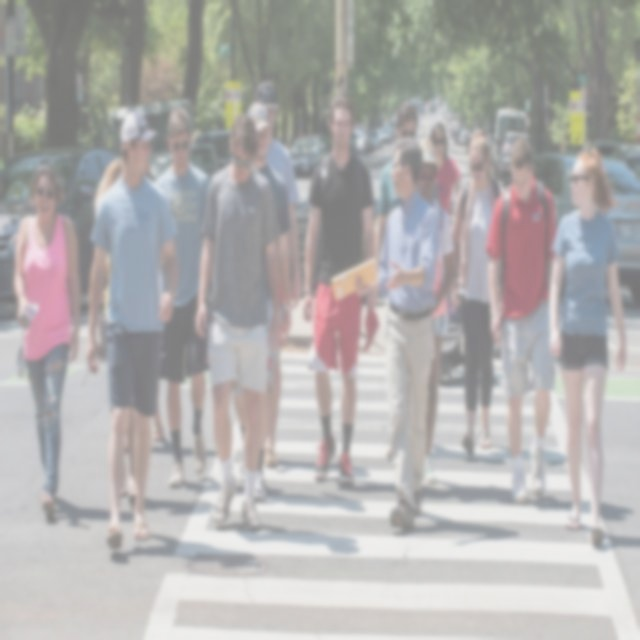pessoa: (84, 109, 180, 552), (195, 112, 284, 533), (354, 133, 442, 534), (547, 143, 628, 551), (302, 90, 382, 488), (485, 134, 565, 512), (231, 100, 293, 503), (13, 162, 81, 522), (446, 123, 514, 464), (152, 106, 212, 490), (250, 78, 302, 470), (416, 135, 456, 488), (95, 158, 136, 500), (374, 98, 440, 279), (429, 441, 568, 468), (45, 494, 144, 528), (110, 532, 213, 564), (430, 120, 462, 216), (264, 522, 360, 554), (392, 524, 521, 546), (213, 522, 263, 568), (264, 492, 366, 514), (420, 484, 512, 506), (144, 492, 230, 515), (182, 476, 283, 492), (150, 440, 218, 458), (151, 380, 169, 439), (274, 458, 340, 473), (420, 509, 476, 525), (598, 500, 636, 522), (446, 262, 459, 322), (527, 494, 573, 510), (350, 479, 400, 492), (314, 475, 351, 492), (436, 476, 461, 486), (351, 466, 371, 478), (580, 499, 591, 514), (122, 434, 128, 452)
